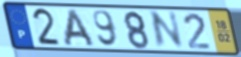2: (31, 6, 63, 47), (182, 11, 214, 51)
8: (122, 9, 151, 50)
9: (92, 9, 120, 48)
A: (63, 8, 97, 48)
N: (148, 10, 185, 50)
